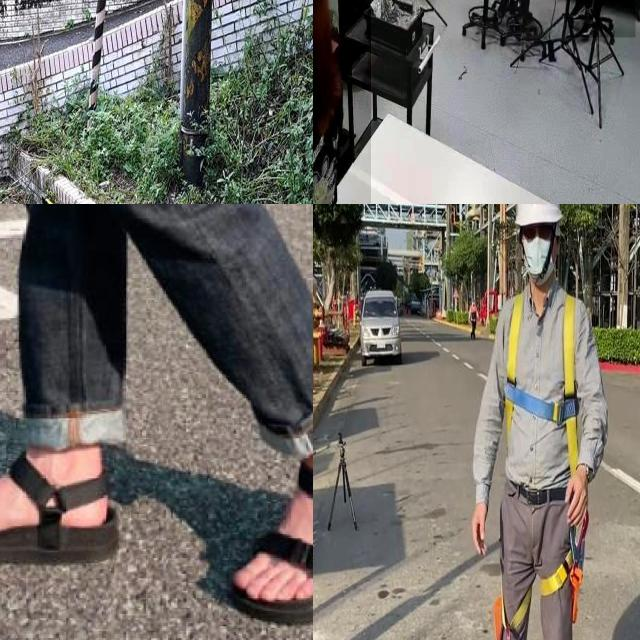Harness: (505, 293, 580, 470), (493, 521, 589, 640)
Sandals: (0, 456, 131, 596), (224, 453, 313, 636)
person: (565, 0, 636, 38)
